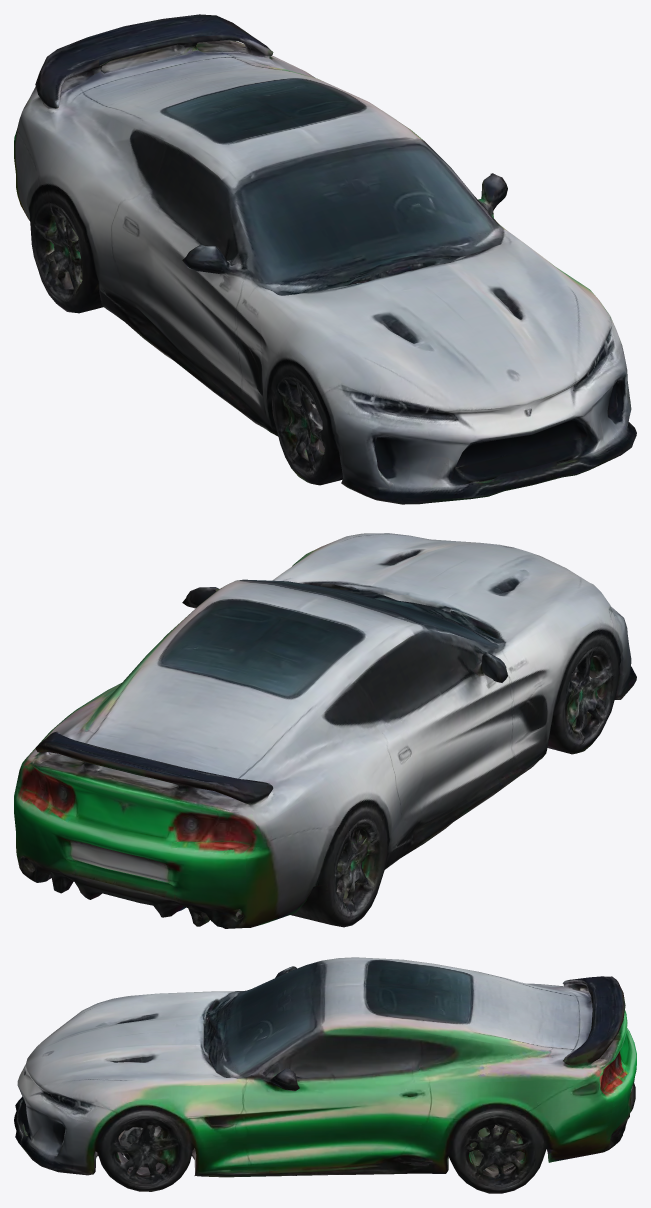
Rendered from dk-meshy-green-sport-lite.glb.
The picture shows the model from 3 angles, top to bottom: view 1: azimuth 30°, elevation 25°; view 2: azimuth 150°, elevation 25°; view 3: azimuth 270°, elevation 25°; orthographic projection. The views are drawn at different scales.
Visible parts, largest first — view 1: DrivingKlass_SportsCar_TwoTone; view 2: DrivingKlass_SportsCar_TwoTone; view 3: DrivingKlass_SportsCar_TwoTone.
Boxes of the visible parts, x1,y1,x2,y2 form: DrivingKlass_SportsCar_TwoTone: (14,14,636,504); DrivingKlass_SportsCar_TwoTone: (14,533,636,928); DrivingKlass_SportsCar_TwoTone: (14,957,636,1193).
Size of the model in its own units: 0.8762 by 0.5558 by 1.99.
Materials: 1 (1 with a texture image).
